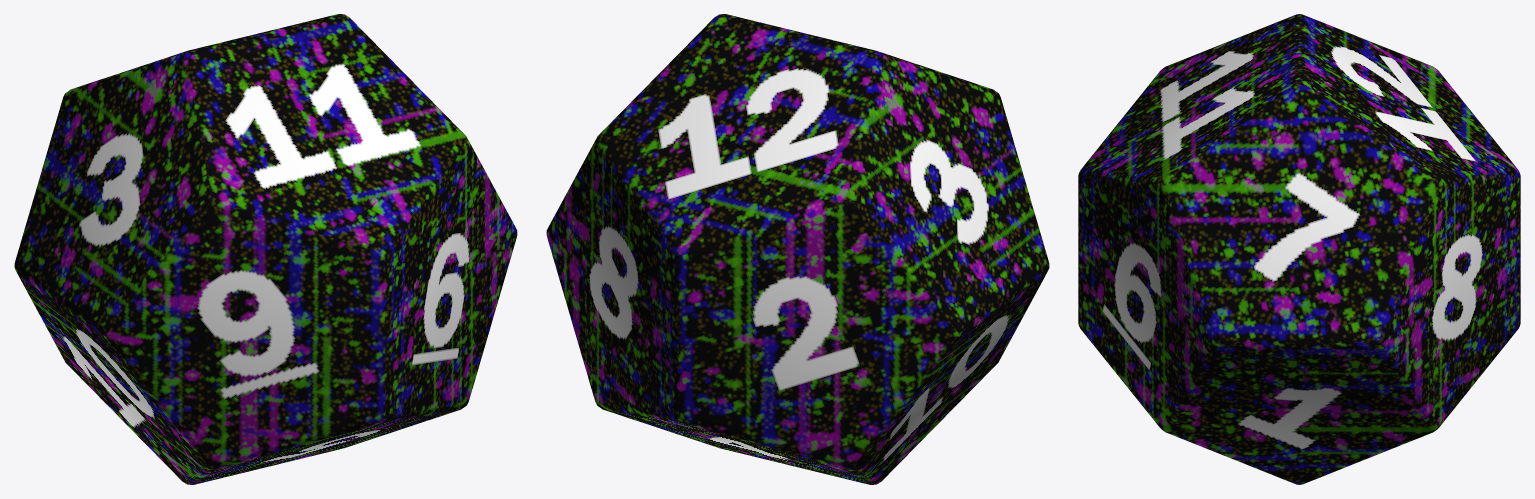
The picture shows the model from 3 angles, left to right: view 1: azimuth 30°, elevation 25°; view 2: azimuth 150°, elevation 25°; view 3: azimuth 270°, elevation 25°; orthographic projection. The views are drawn at different scales.
Visible parts, largest first — view 1: 12TieDye_12TieDye_0; view 2: 12TieDye_12TieDye_0; view 3: 12TieDye_12TieDye_0.
Boxes of the visible parts, box(x1,y1,x2,y2) form: 12TieDye_12TieDye_0: box(14, 14, 517, 484); 12TieDye_12TieDye_0: box(546, 14, 1049, 484); 12TieDye_12TieDye_0: box(1078, 14, 1520, 484).
Bounding box in the file's own units: 1.85 × 1.85 × 1.85.
1 material, 1 textured.
